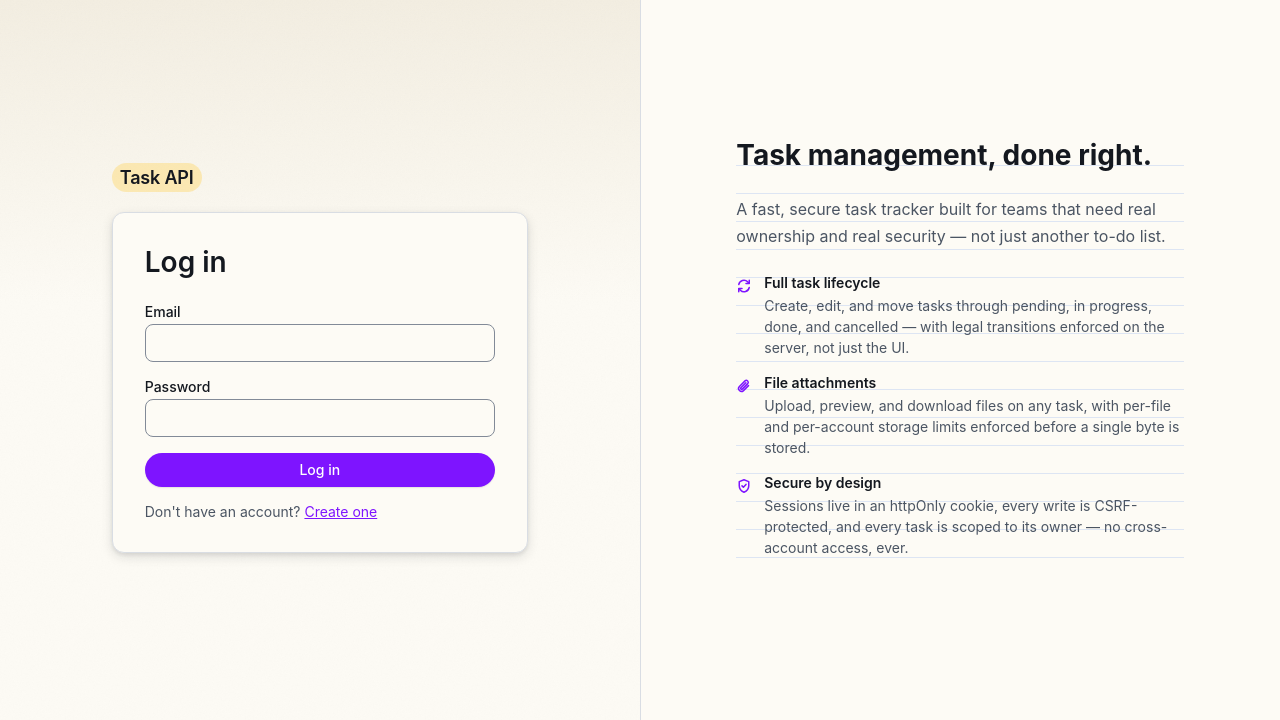
Scenario: LoginPage › shows a distinct message on 429 — must not look like a credential error
This screenshot has width=1280, height=720.
Type "alice@example.com" into the field labelled "Email".
click(320, 343); type("alice@example.com")  # box [145,324,495,362]
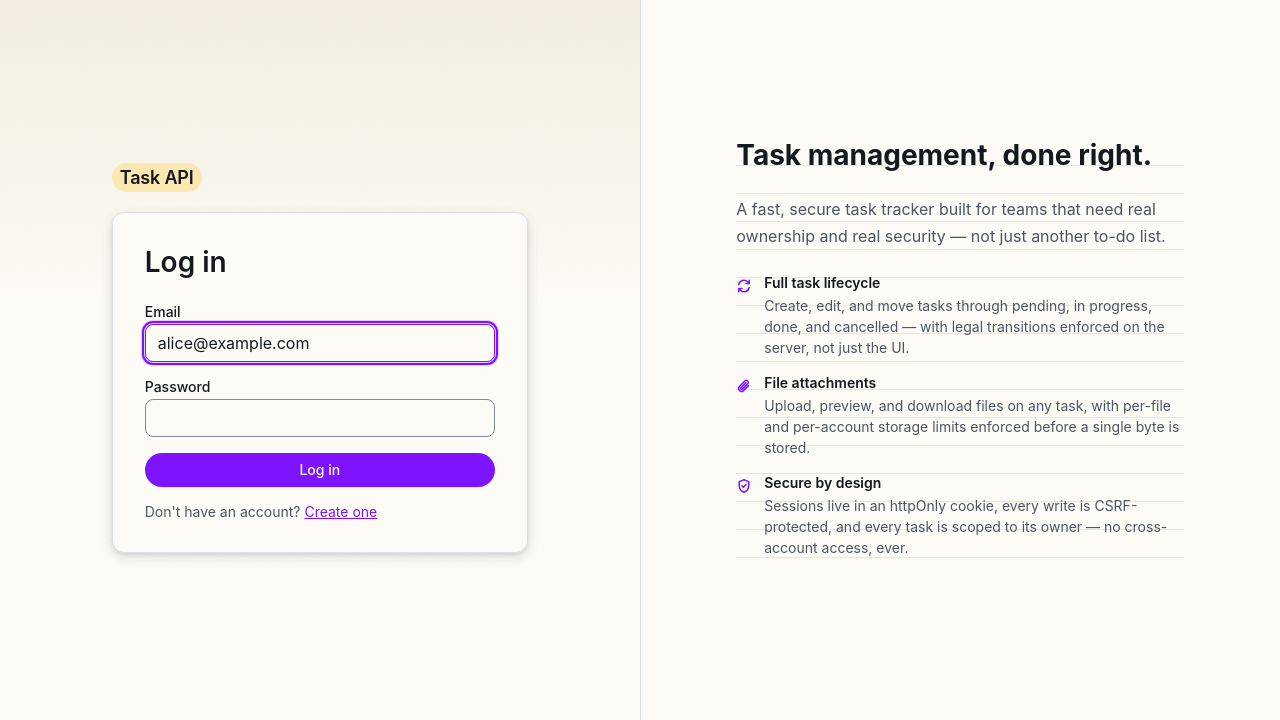
Type "correct horse battery staple" into the password field labelled "Password".
click(320, 418); type("correct horse battery staple")  # box [145,399,495,437]
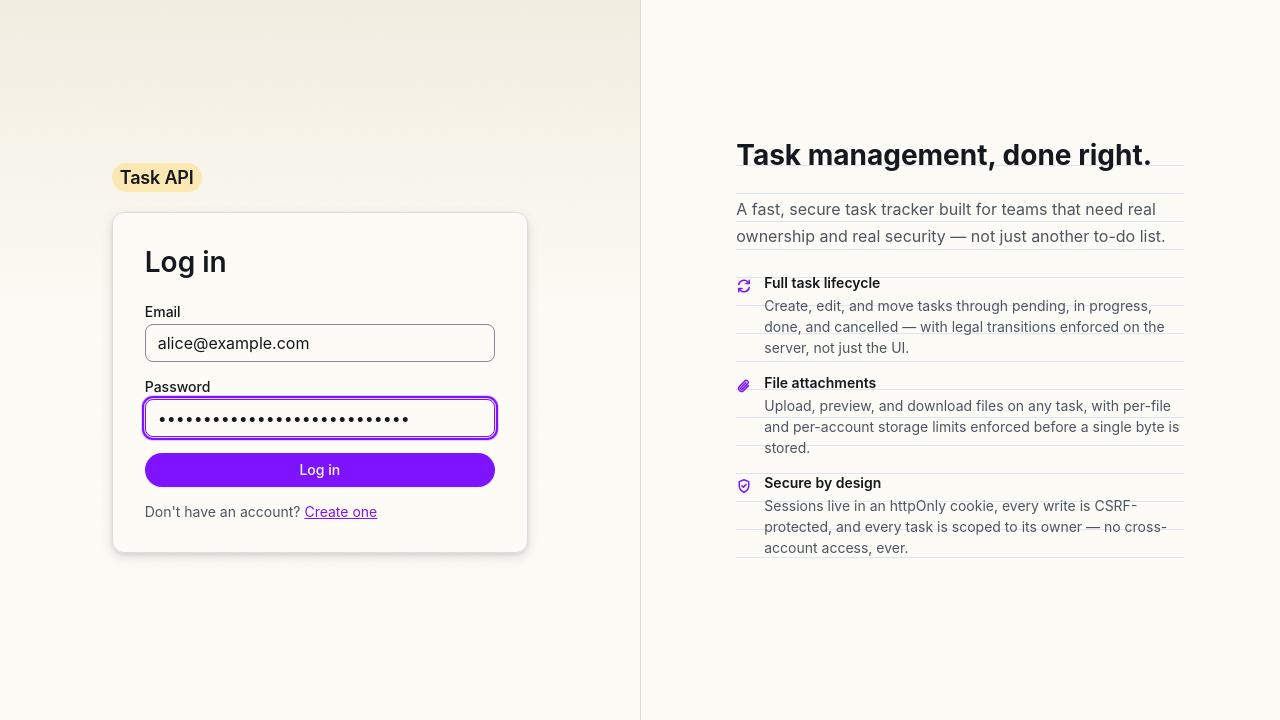
Click the button "Log in".
click(320, 470)  # box [145,453,495,487]
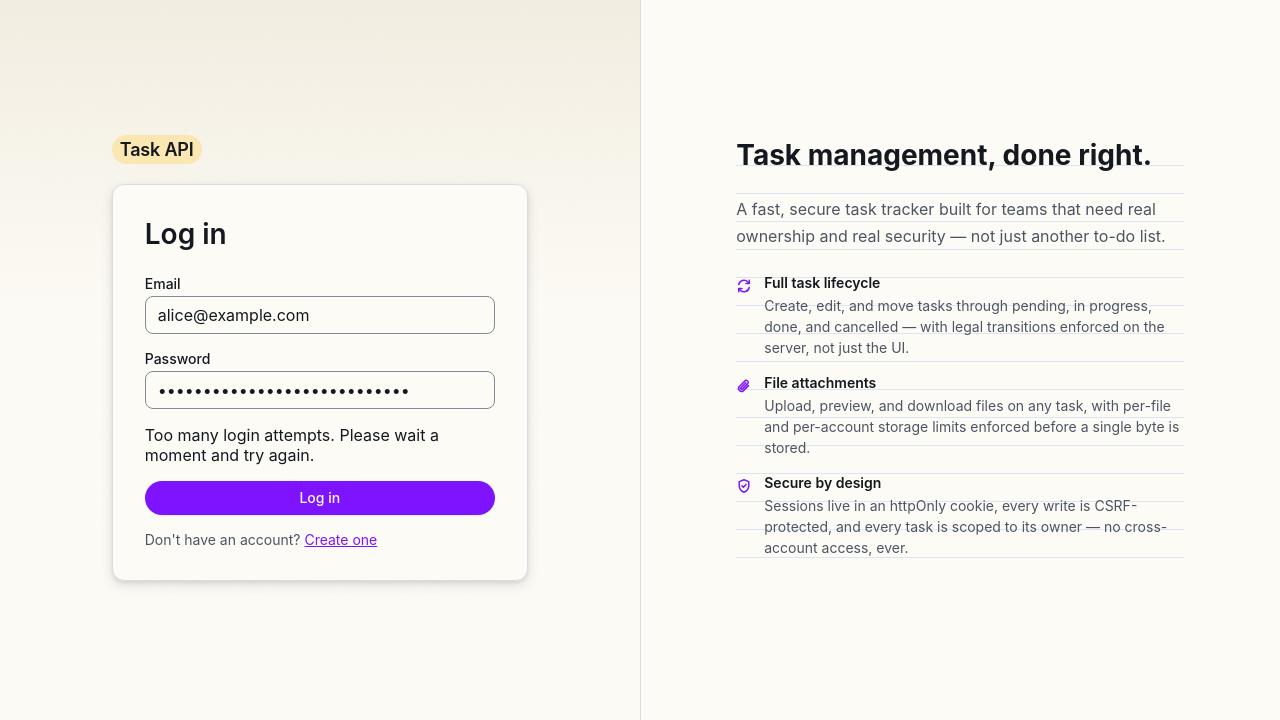
Result: the message shows "Too many login attempts" at [145,425,439,465]
